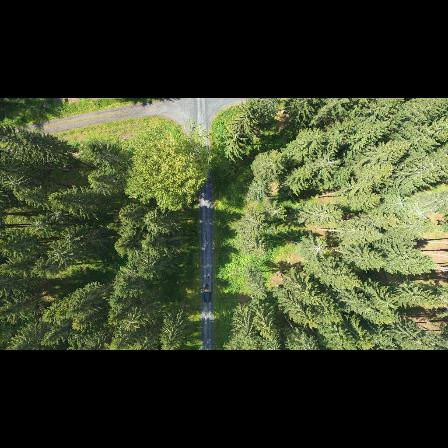Sick: (310, 238, 328, 257)
